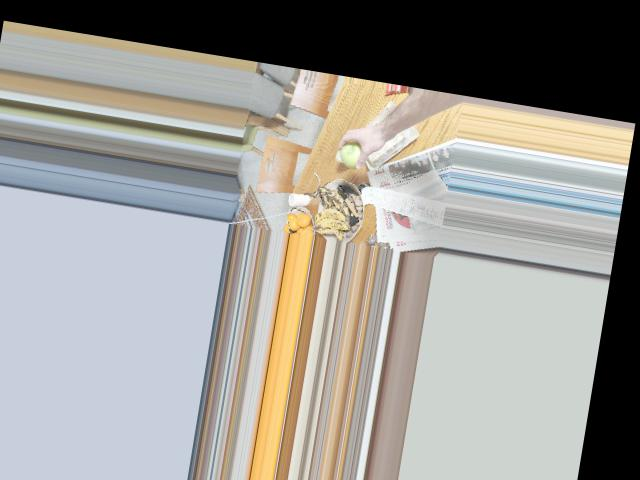apple: (337, 137, 368, 169)
